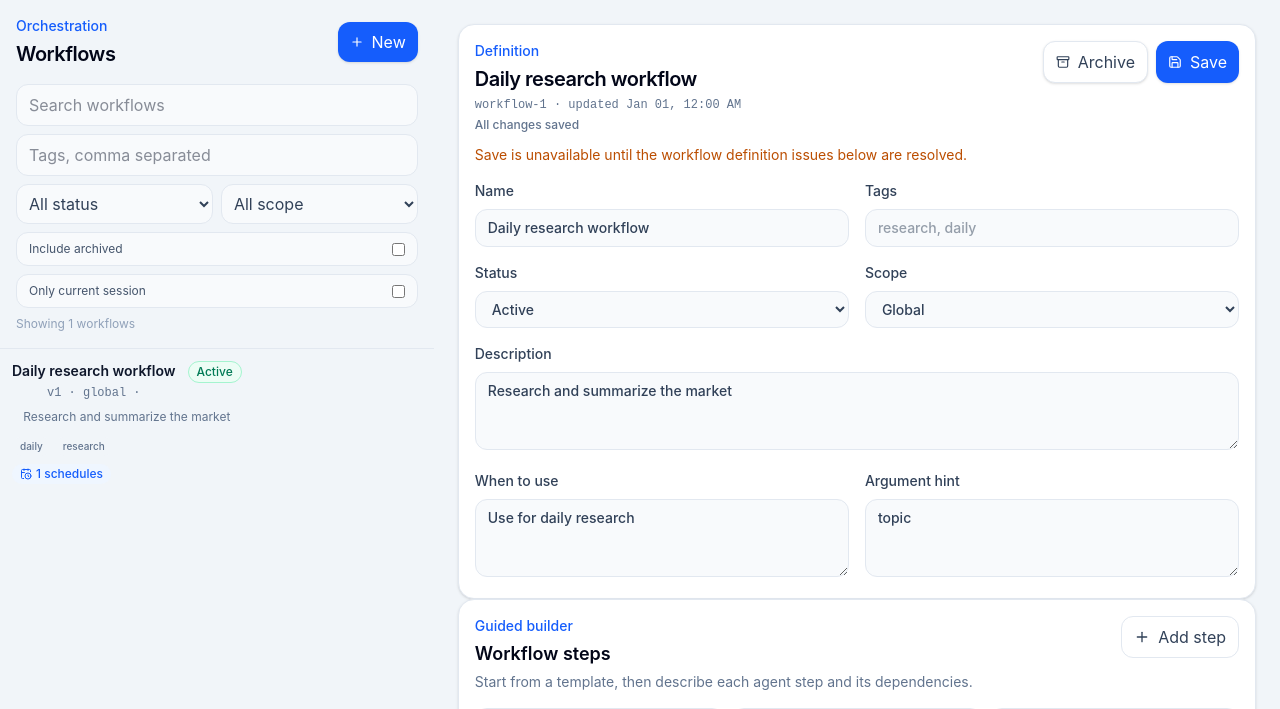
Test: WorkflowsPage workflow schedules › disables archive confirmation while the mutation is pending
The width and height of the screenshot is (1280, 709).
Click the button "Archive" at (1095,62), box [1043, 41, 1148, 83]
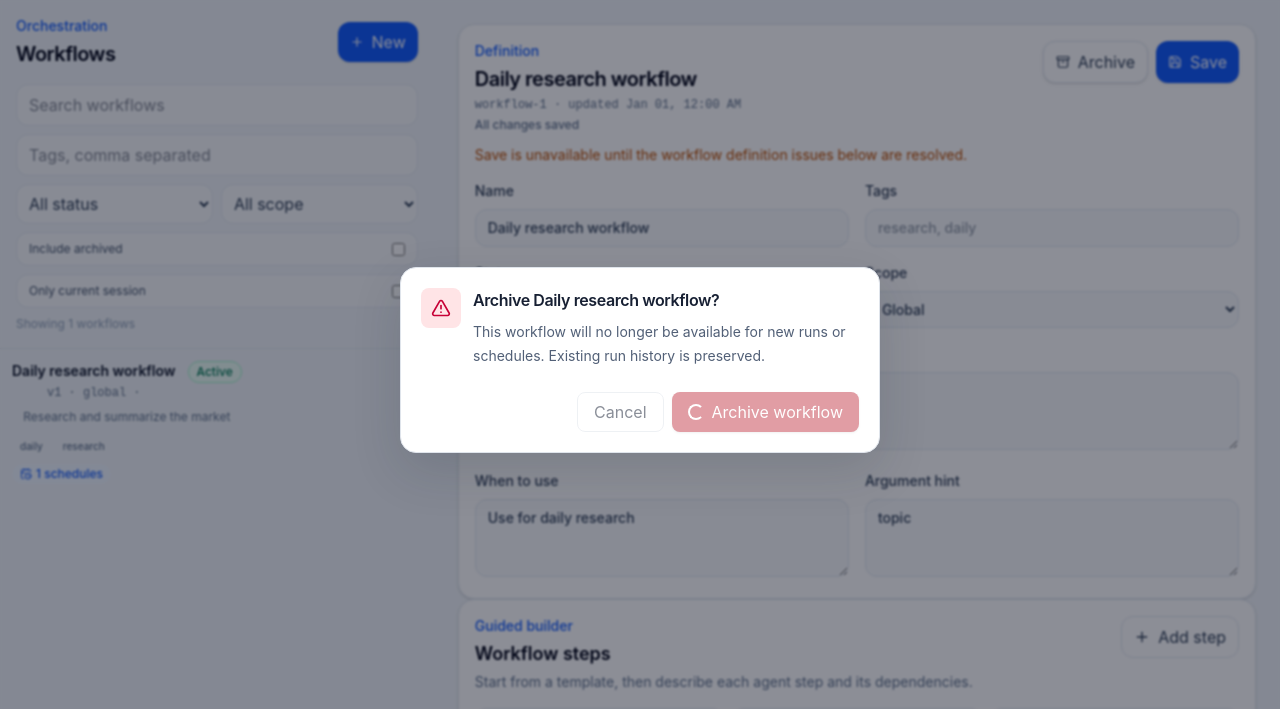
Now the button "Archive workflow" is disabled, box [672, 392, 859, 432]
Now the button "Cancel" is disabled, box [577, 392, 664, 432]
